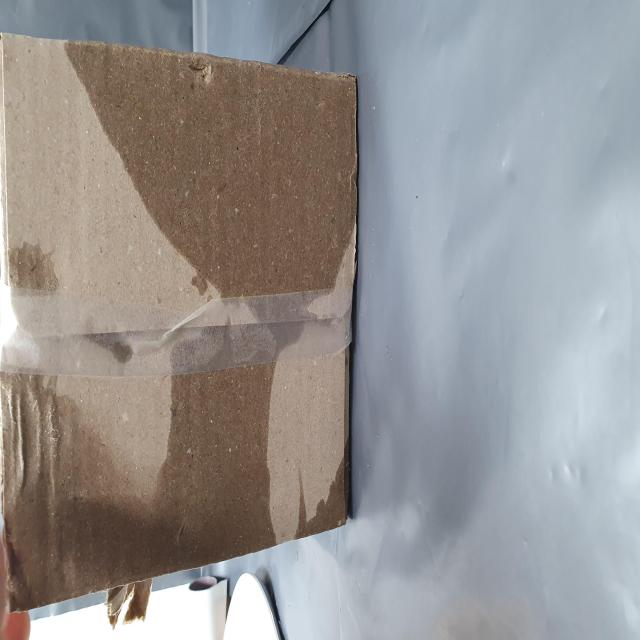wet: (26, 10, 327, 640)
